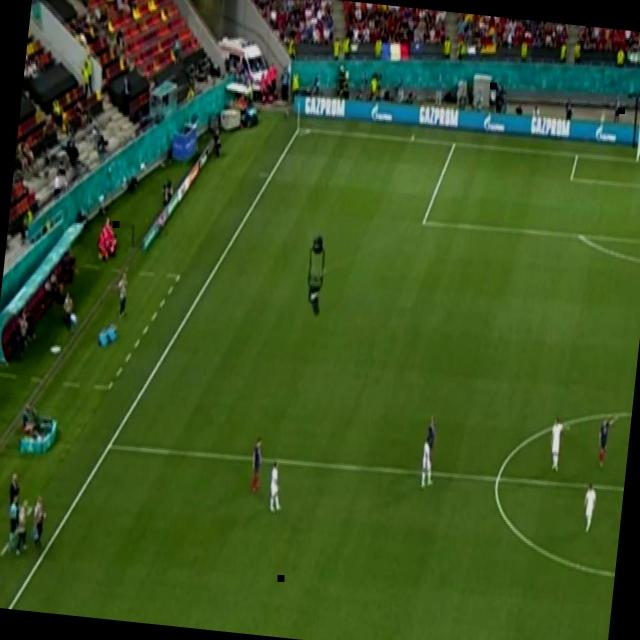player-white: (543, 408, 573, 478), (593, 407, 621, 471), (576, 475, 602, 537), (415, 434, 440, 494), (245, 433, 267, 500), (2, 492, 24, 554), (266, 458, 288, 515), (422, 410, 438, 462)
